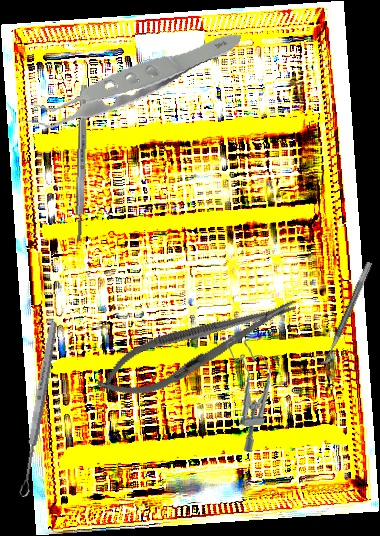Fixation Ring: (312, 257, 374, 367)
Needle Holder: (89, 282, 306, 412)
Scalpel Handle: (74, 84, 89, 242)
Speculum: (225, 332, 278, 454)
Surgical Spoon: (17, 320, 60, 498)
Tissue Forceps: (15, 0, 242, 157)
